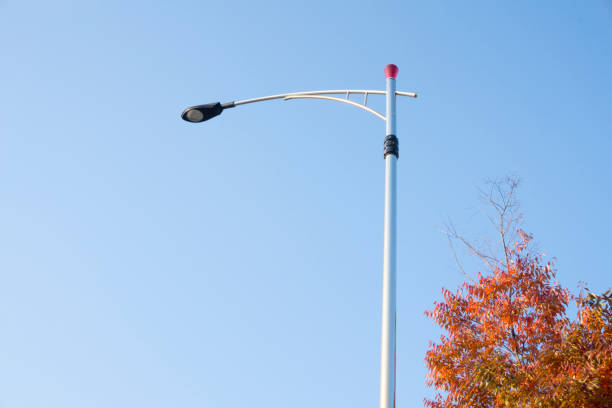light_pole: (370, 70, 406, 408)
